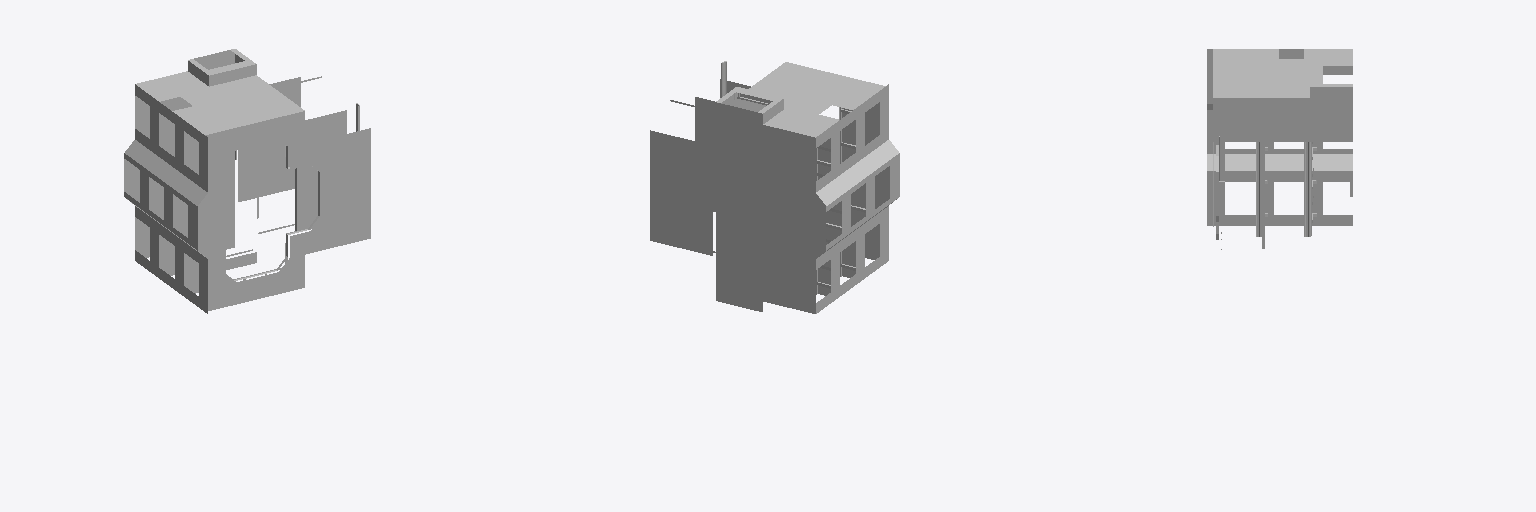
File: man_int_mainhall.obj
The picture shows the model from 3 angles: view 1: azimuth 30°, elevation 25°; view 2: azimuth 150°, elevation 25°; view 3: azimuth 270°, elevation 25°; orthographic projection.
Visible parts, largest first — view 1: g_flooring_7, g_wallpaper_3, g_.006_wall2_Plane.009, Plane, g_flooring_3, g_.002_wall2_Plane.004; view 2: g_flooring_3, g_wallpaper_3, g_.006_wall2_Plane.009, g_flooring_7, g_woodbeam; view 3: g_wallpaper_3, g_woodbeam, g_.002_wall2_Plane.004.
Boxes of the visible parts, x1=… form: g_flooring_7: x1=198, y1=64, x2=370, y2=310; g_wallpaper_3: x1=124, y1=49, x2=304, y2=313; g_.006_wall2_Plane.009: x1=238, y1=77, x2=346, y2=230; Plane: x1=149, y1=97, x2=198, y2=293; g_flooring_3: x1=124, y1=50, x2=234, y2=257; g_.002_wall2_Plane.004: x1=234, y1=144, x2=319, y2=280; g_flooring_3: x1=716, y1=102, x2=825, y2=313; g_wallpaper_3: x1=716, y1=62, x2=899, y2=313; g_.006_wall2_Plane.009: x1=650, y1=130, x2=712, y2=255; g_flooring_7: x1=695, y1=79, x2=889, y2=295; g_woodbeam: x1=721, y1=61, x2=865, y2=294; g_wallpaper_3: x1=1207, y1=49, x2=1352, y2=225; g_woodbeam: x1=1213, y1=136, x2=1316, y2=236; g_.002_wall2_Plane.004: x1=1216, y1=139, x2=1264, y2=248.
Bounding box in the file's own units: 1800 × 3200 × 1200.